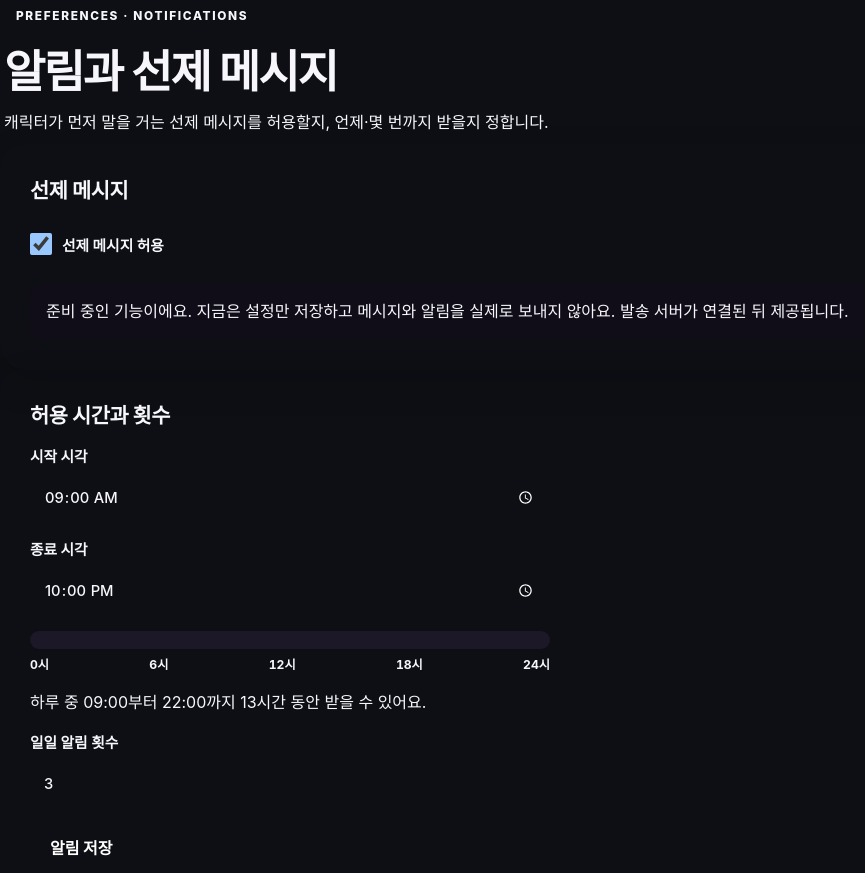
Test: 설정 페이지 › 잘못된 알림 시간은 저장하지 않는다
Replace the text in the time field labelled "시작 시각" with "22:00": (290, 498) [30,474,550,522]
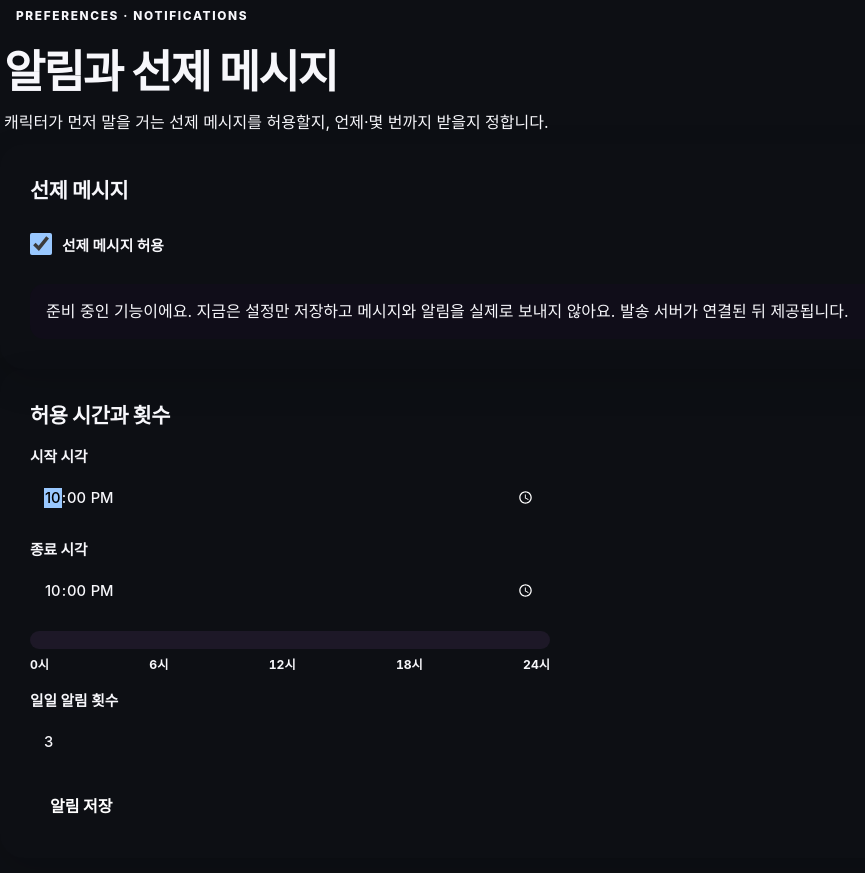
Replace the text in the time field labelled "종료 시각" with "09:00": (290, 591) [30,567,550,615]
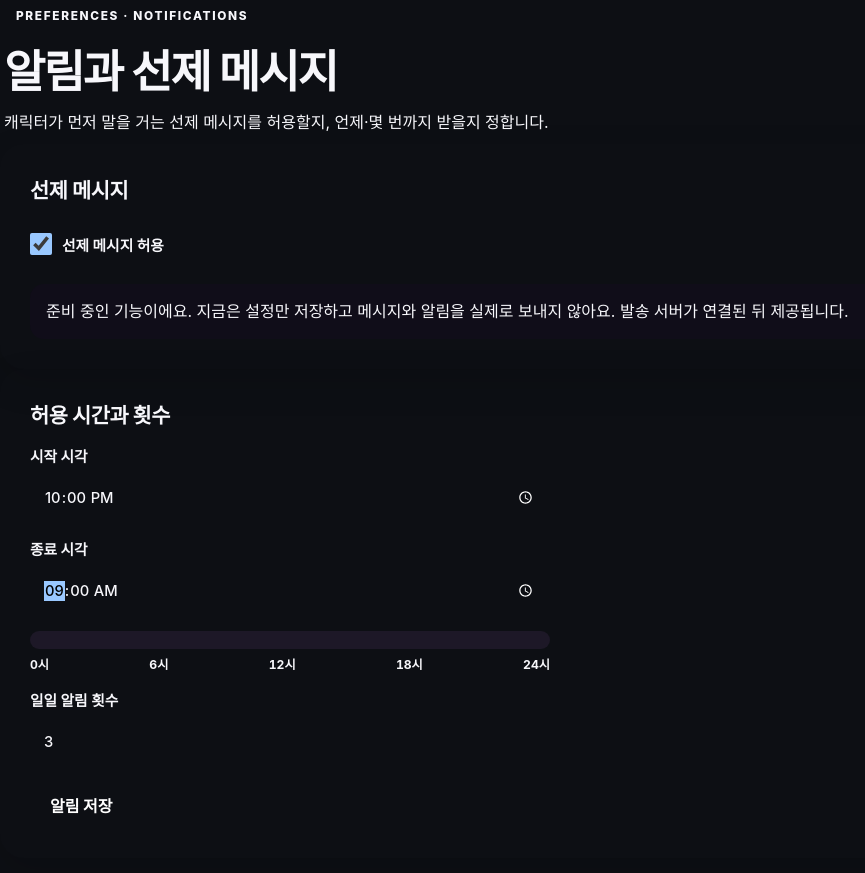
Click the button "알림 저장": (81, 805) [30,782,132,828]
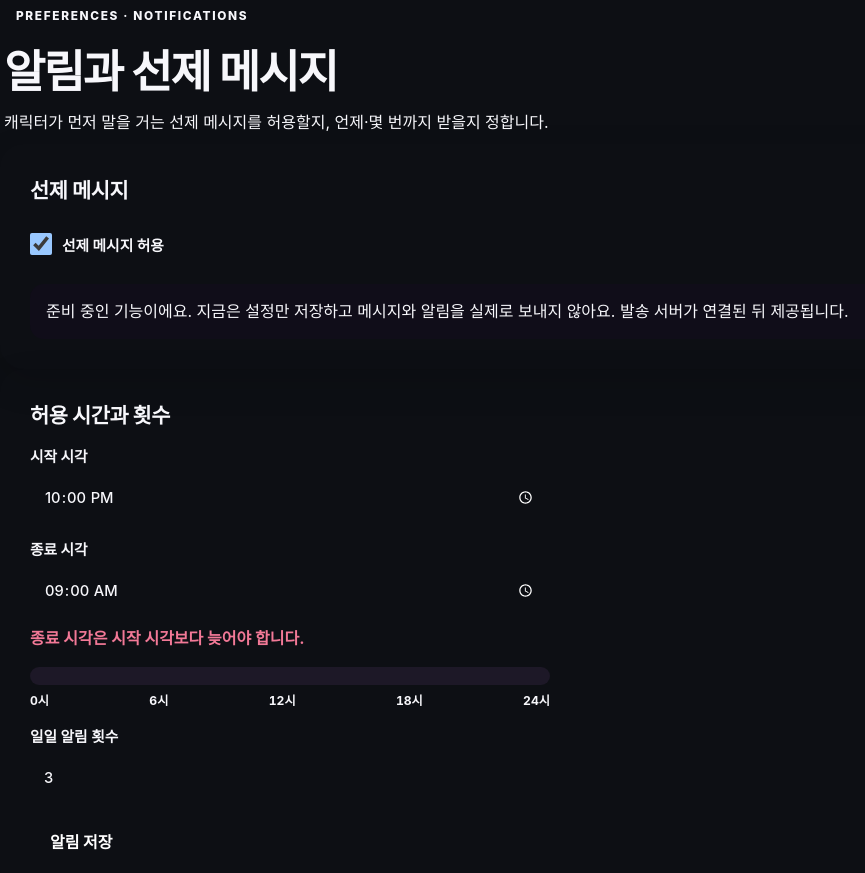
Expected: the text "종료 시각은 시작 시각보다 늦어야 합니다." is shown, [30,628,304,648]
